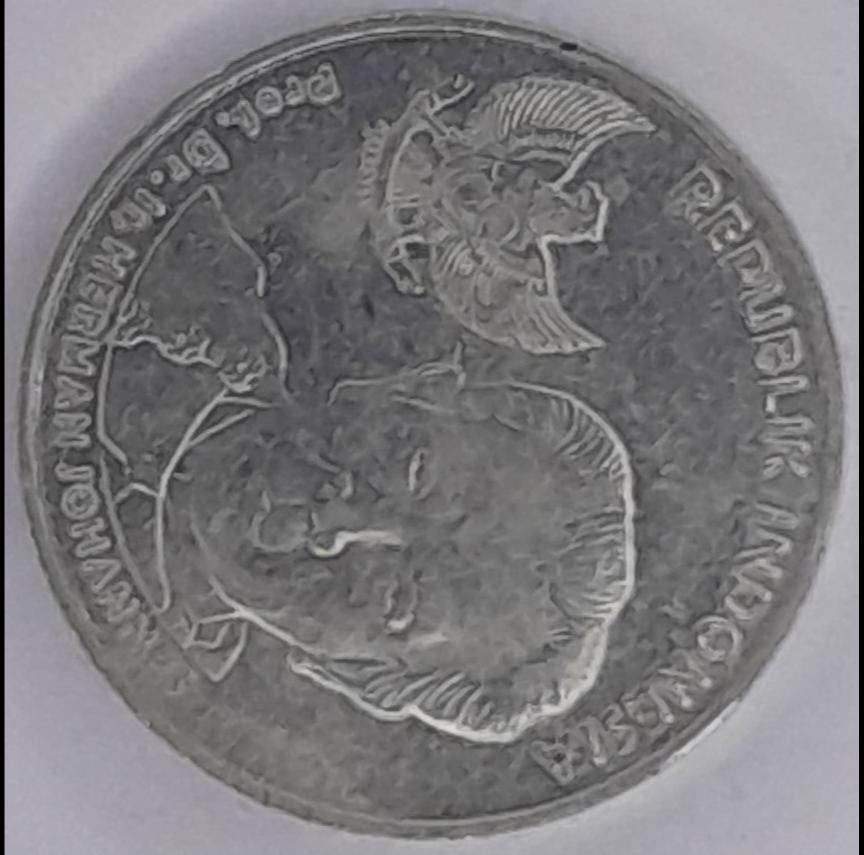coin_100_e2016: (12, 5, 847, 841)
